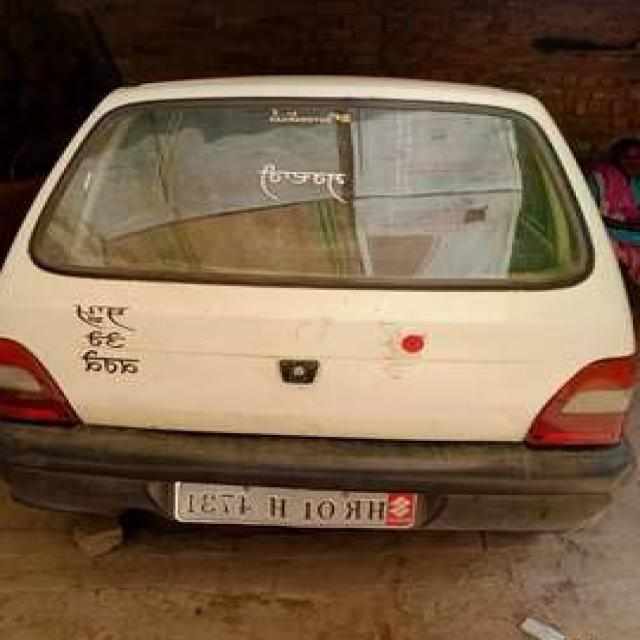license_plate: (164, 478, 425, 534)
